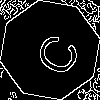C: (25, 25, 83, 80)
